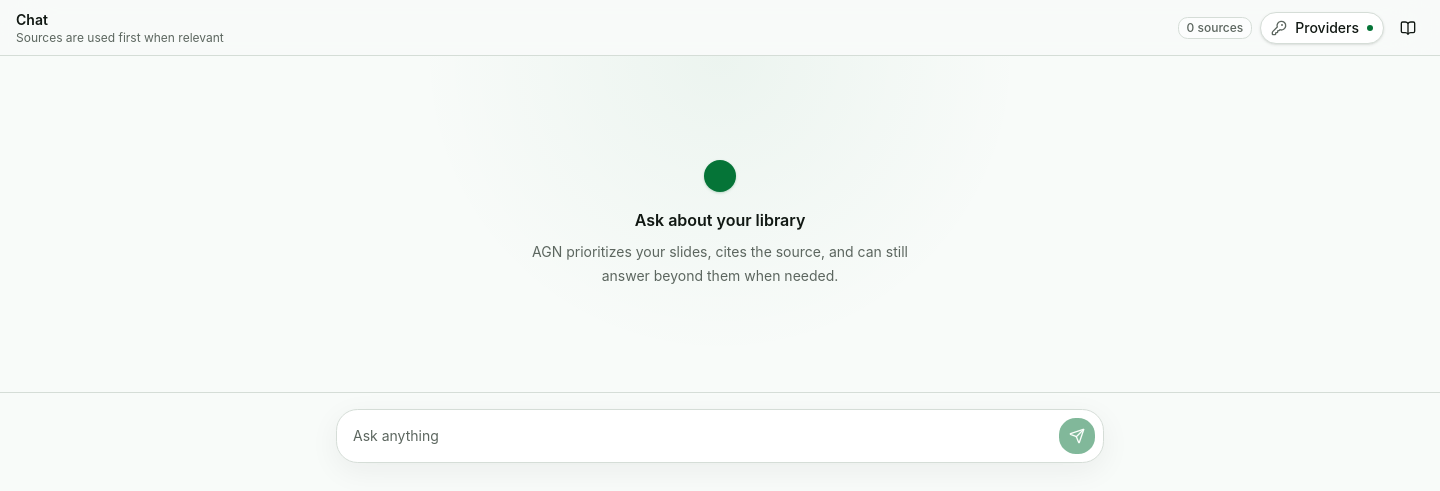
Test: chat interactions › records a provider-stage failure after successful web research without showing evidence pills
This screenshot has width=1440, height=491.
Type "Search the web for current gravity research" into the text box named "Ask a question" at (698, 436), box 345,418 -> 1051,454
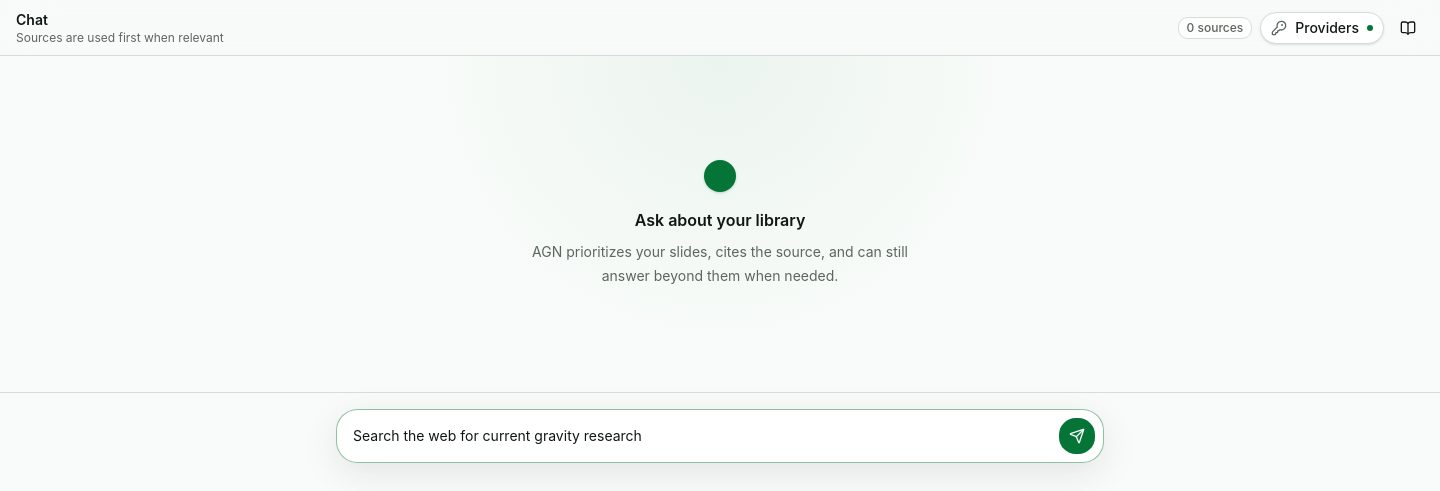
Click the button named "Send question" at (1077, 436), box 1059,418 -> 1095,454
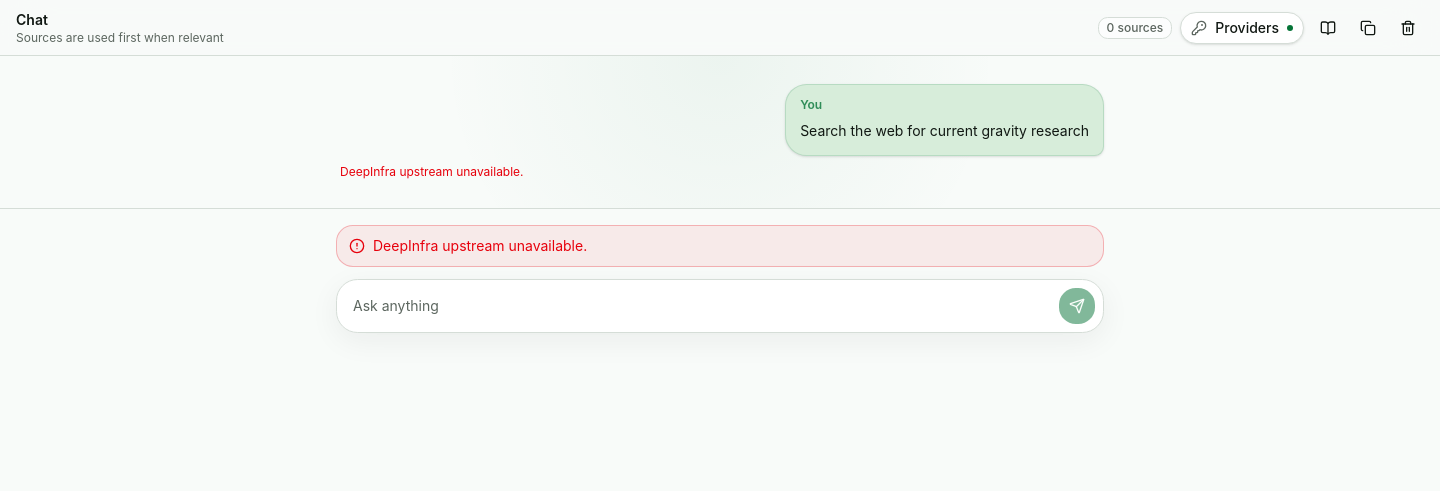
Now the 1st text "DeepInfra upstream unavailable." is shown, box 336,164 -> 528,180
